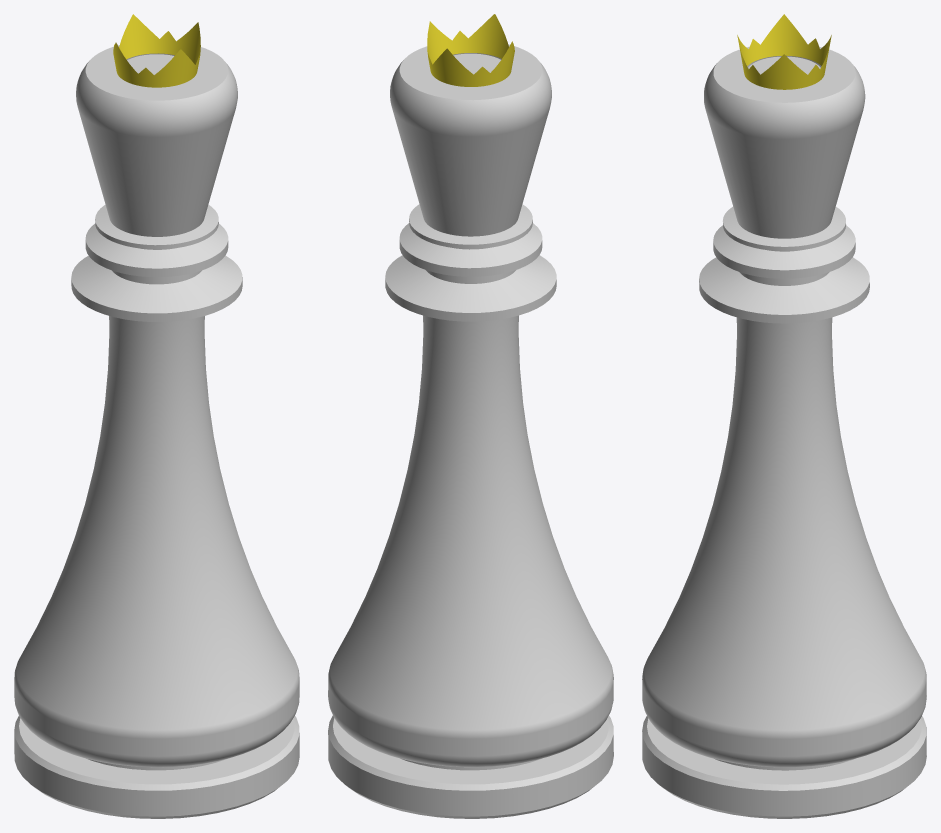
The model's file is queen.glb.
3 renders of one model, left to right at view 1: azimuth 30°, elevation 25°; view 2: azimuth 150°, elevation 25°; view 3: azimuth 270°, elevation 25°, orthographic.
Parts seen in each view (by area): view 1: queen; view 2: queen; view 3: queen.
Boxes of the visible parts, x1,y1,x2,y2 form: queen: (14,14,299,818); queen: (328,14,613,818); queen: (642,14,926,818).
Bounding box in the file's own units: 0.06 × 0.1691 × 0.06.
